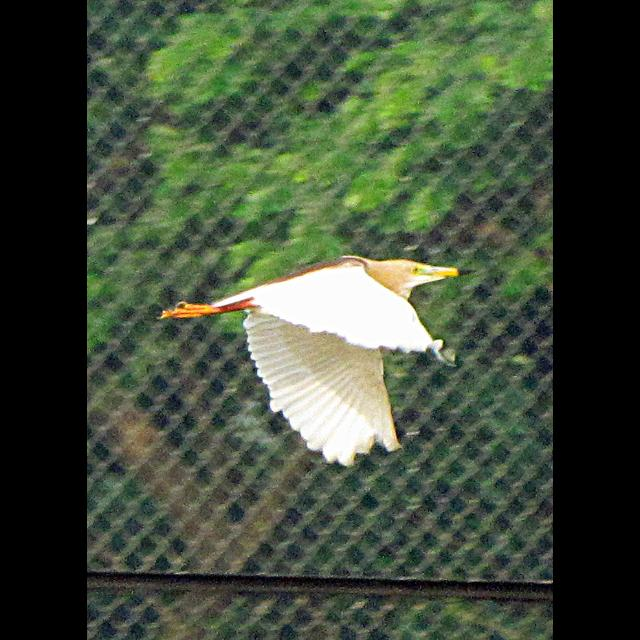heron: (160, 251, 476, 464)
